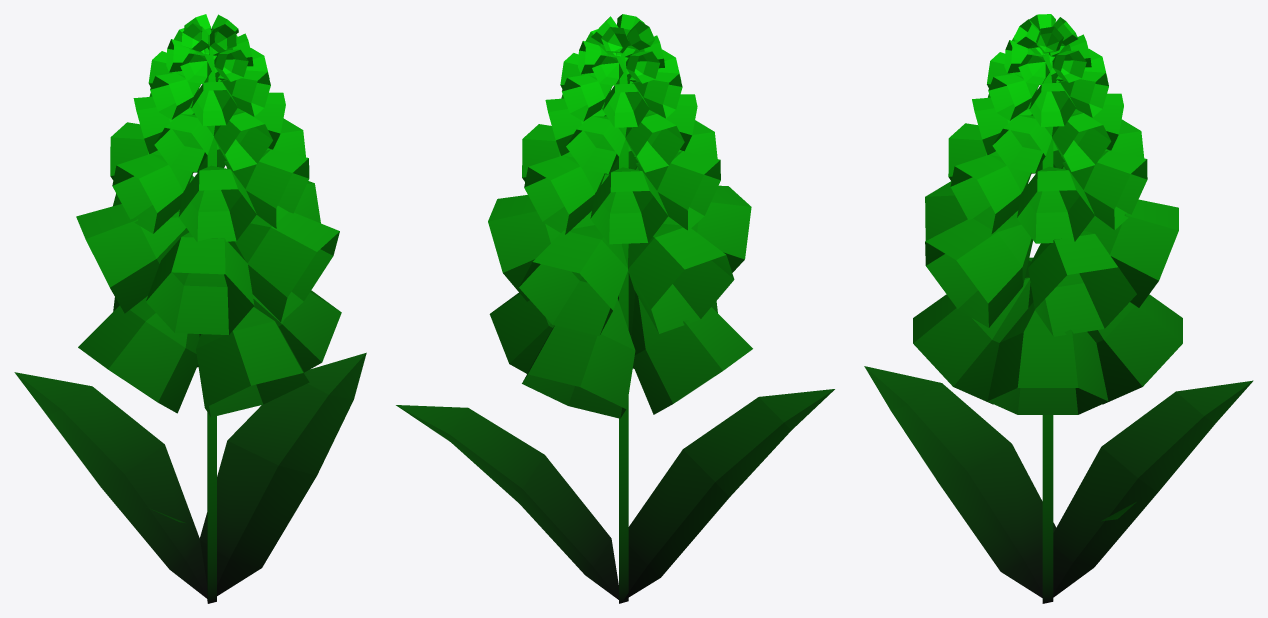
The model's file is SM_Flower_02.fbx.
3 views of the same model, side by side, from view 1: azimuth 30°, elevation 25°; view 2: azimuth 150°, elevation 25°; view 3: azimuth 270°, elevation 25° (orthographic).
Parts seen in each view (by area): view 1: SM_Flower_02; view 2: SM_Flower_02; view 3: SM_Flower_02.
Boxes of the visible parts, x1,y1,x2,y2 form: SM_Flower_02: [14, 14, 366, 603]; SM_Flower_02: [396, 14, 834, 603]; SM_Flower_02: [864, 14, 1253, 603].
Size of the model in its own units: 47.96 by 84.75 by 51.54.
